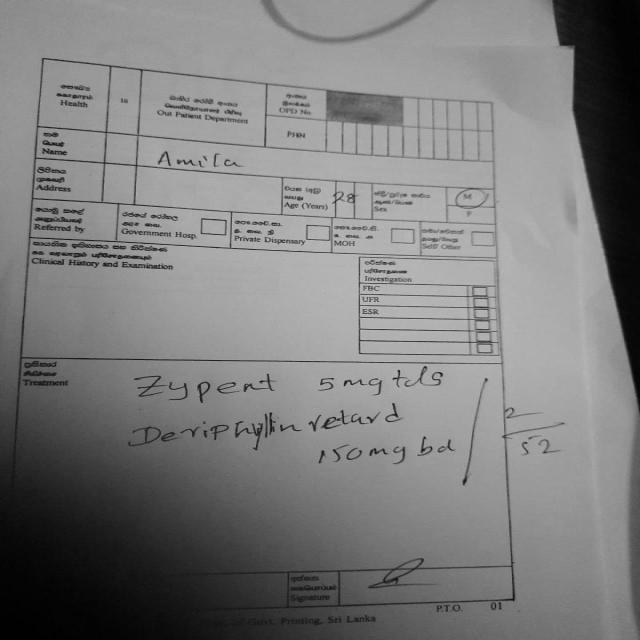Prescription: (124, 398, 463, 470), (131, 364, 454, 408)
